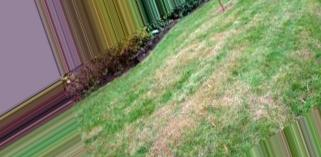patch: (191, 57, 238, 103), (147, 105, 193, 148), (251, 87, 280, 121), (157, 58, 187, 86)
